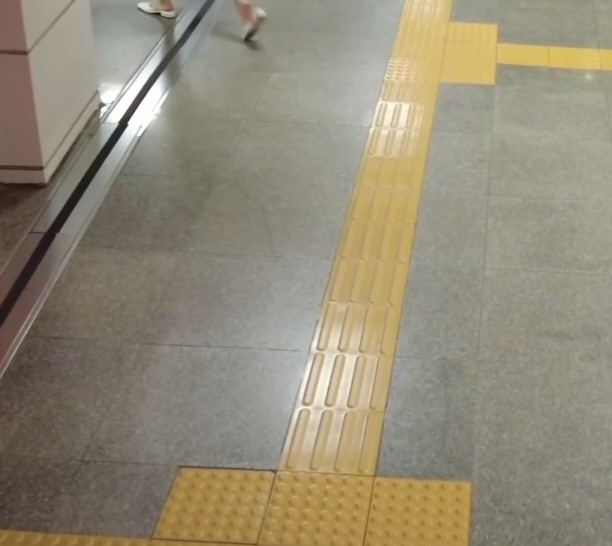guideBlock: (281, 410, 392, 470), (307, 359, 403, 428), (310, 294, 397, 355), (350, 186, 441, 235), (366, 157, 430, 203), (338, 223, 406, 266), (338, 263, 406, 299), (366, 129, 426, 163)
warningBlock: (264, 472, 382, 546), (375, 467, 485, 546), (175, 469, 276, 546)
